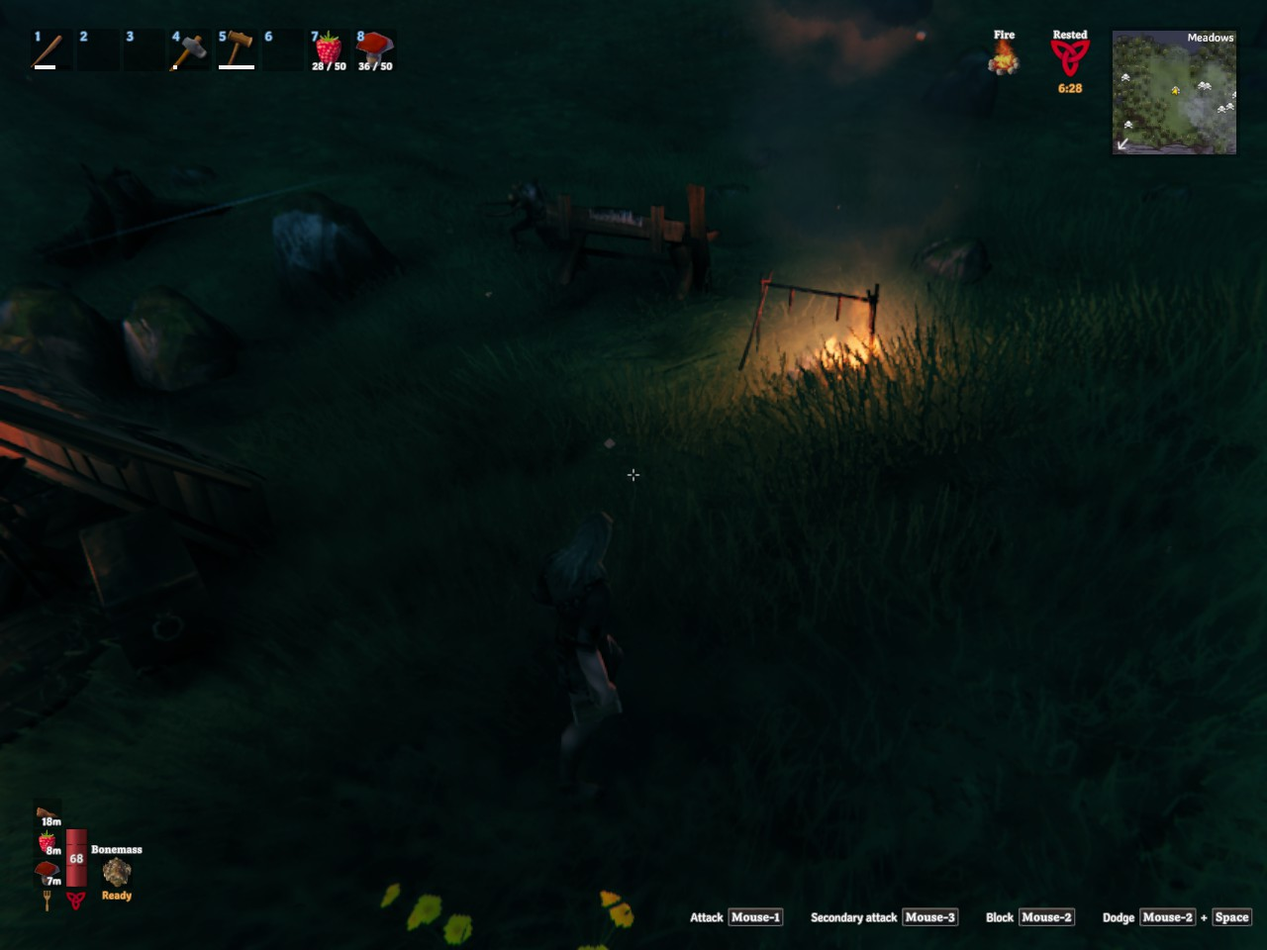Rested Buff: (1038, 22, 1106, 108)
